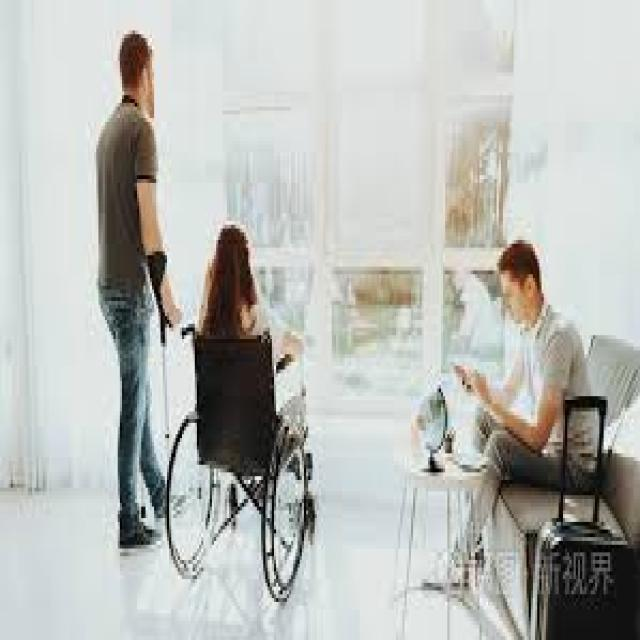wheelchairs: (157, 312, 326, 606)
